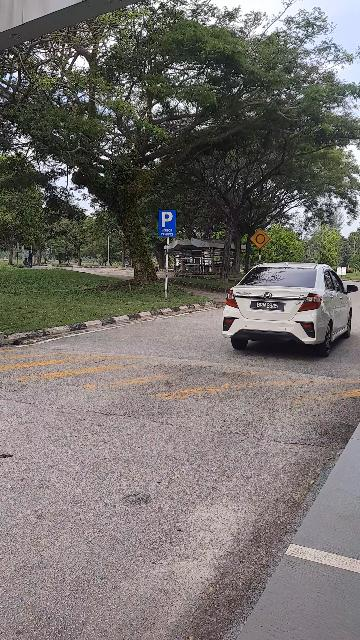License_Plate: (251, 301, 286, 311)
car: (225, 262, 360, 358)
